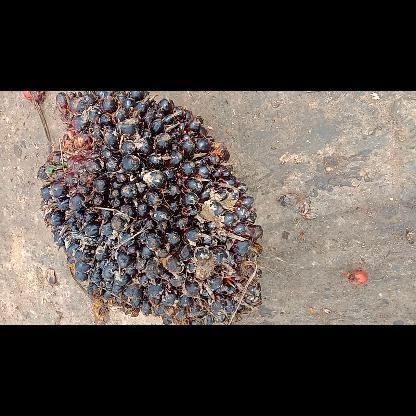TBS mentah: (33, 90, 267, 324)
